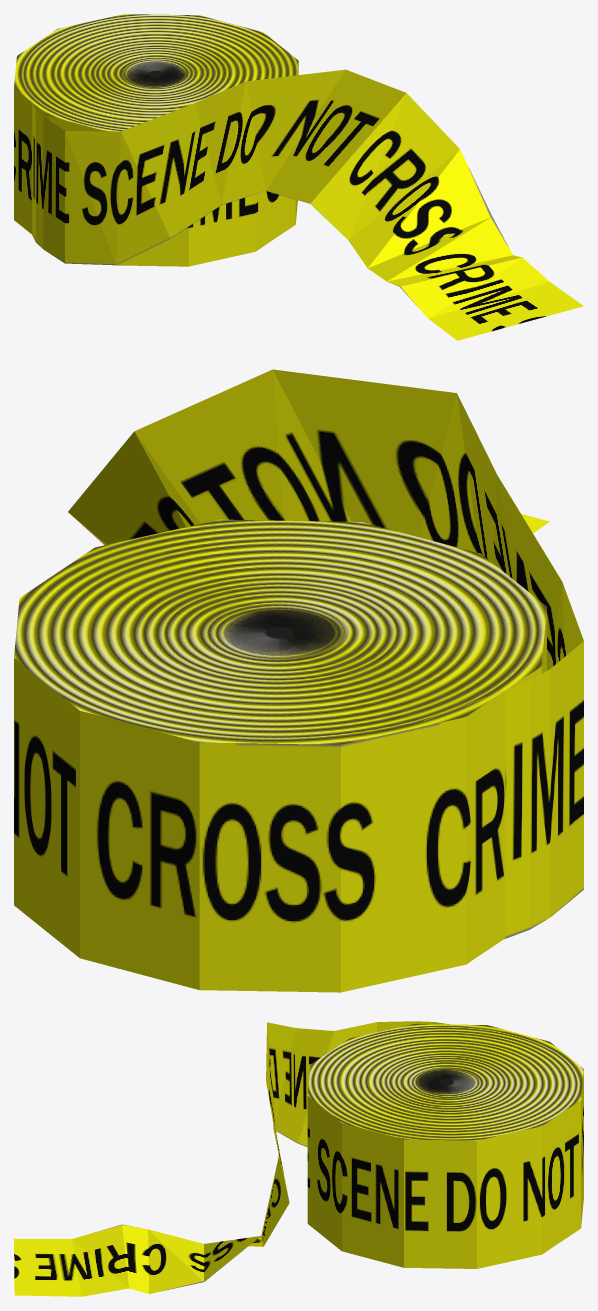
File: Model_CrimeSceneTape.fbx
The picture shows the model from 3 angles, top to bottom: view 1: azimuth 30°, elevation 25°; view 2: azimuth 150°, elevation 25°; view 3: azimuth 270°, elevation 25°; orthographic projection. The views are drawn at different scales.
Parts seen in each view (by area): view 1: CrimeSceneTape; view 2: CrimeSceneTape; view 3: CrimeSceneTape.
Part boxes in pixels (box(x1,y1,x2,y2)): CrimeSceneTape: box(14, 14, 583, 340); CrimeSceneTape: box(14, 369, 583, 992); CrimeSceneTape: box(14, 1021, 583, 1296).
Size of the model in its own units: 27.33 by 14.85 by 40.89.
1 material, 1 textured.
